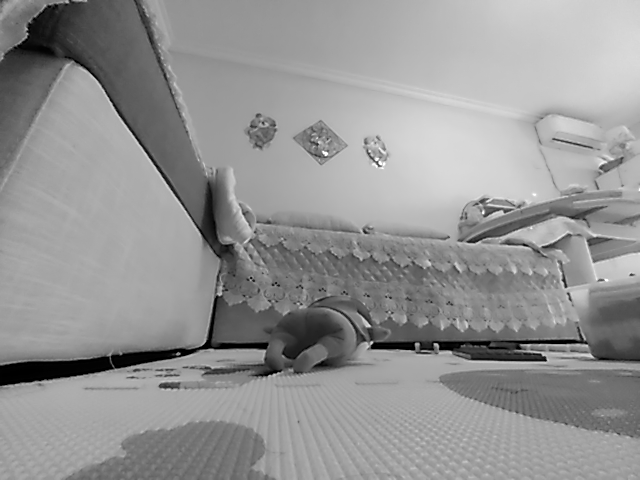toy: (262, 292, 391, 376)
